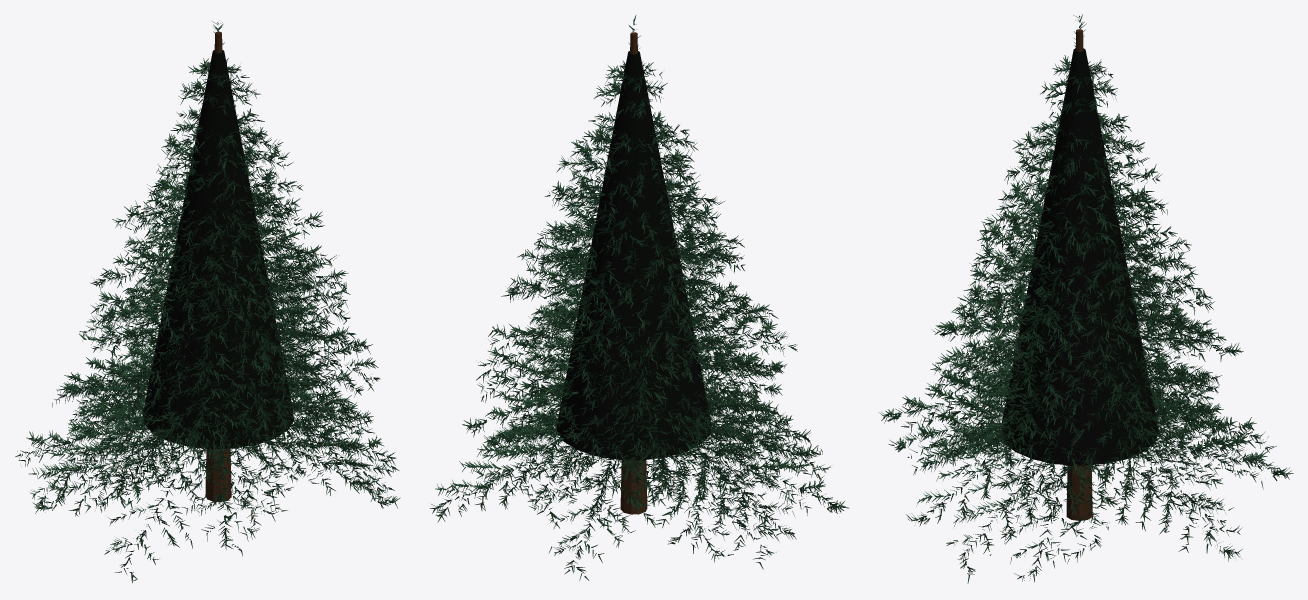
File: spruce.glb
The picture shows the model from 3 angles, left to right: view 1: azimuth 30°, elevation 25°; view 2: azimuth 150°, elevation 25°; view 3: azimuth 270°, elevation 25°; orthographic projection. The views are drawn at different scales.
Parts seen in each view (by area): view 1: needles, core, trunk; view 2: needles, core, trunk; view 3: needles, core, trunk.
Boxes of the visible parts, bbox=[...] form: needles: bbox=[15, 21, 400, 583]; core: bbox=[143, 50, 293, 448]; trunk: bbox=[205, 31, 231, 501]; needles: bbox=[430, 15, 849, 580]; core: bbox=[556, 51, 711, 460]; trunk: bbox=[620, 32, 647, 514]; needles: bbox=[879, 14, 1293, 583]; core: bbox=[1001, 48, 1158, 465]; trunk: bbox=[1066, 29, 1092, 520].
Bounding box in the file's own units: 1.29 × 1.86 × 1.36.
